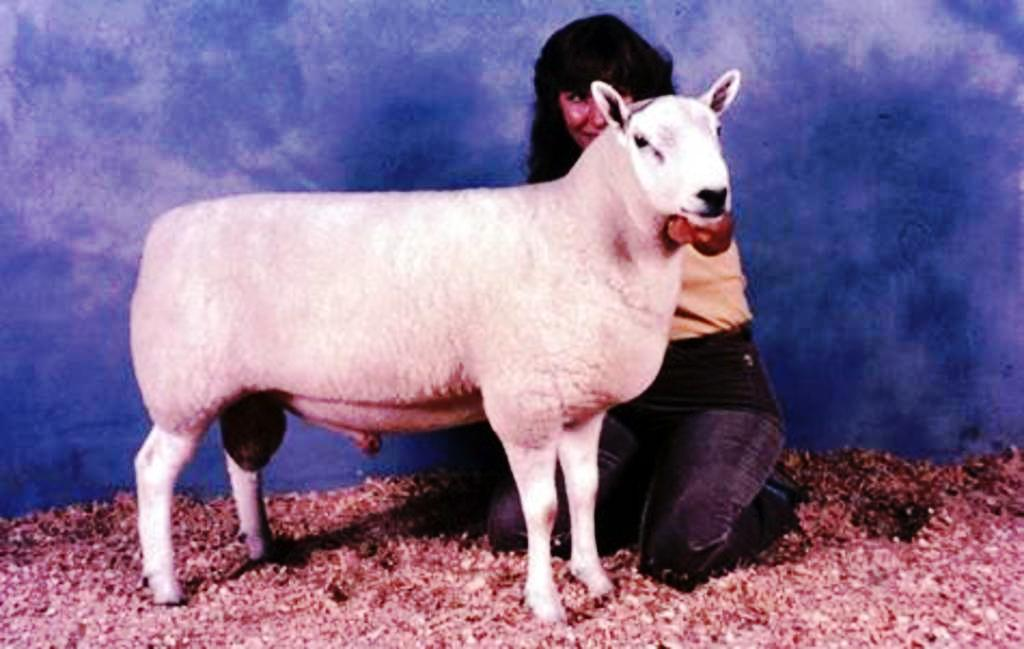Sheep: (123, 66, 745, 625)
